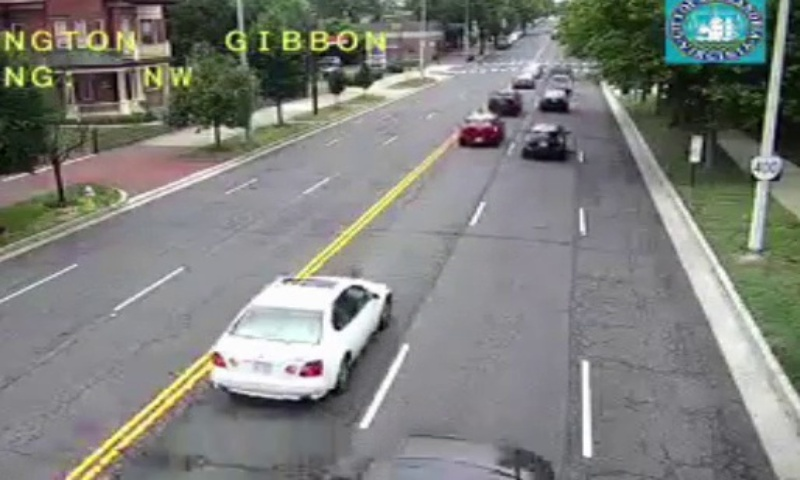car: (207, 275, 389, 399), (522, 123, 564, 159), (459, 115, 502, 145), (487, 90, 518, 115), (538, 90, 568, 111)
